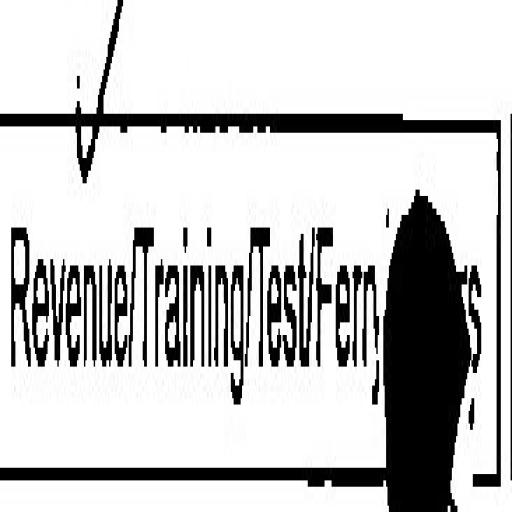check: (0, 7, 133, 512)
